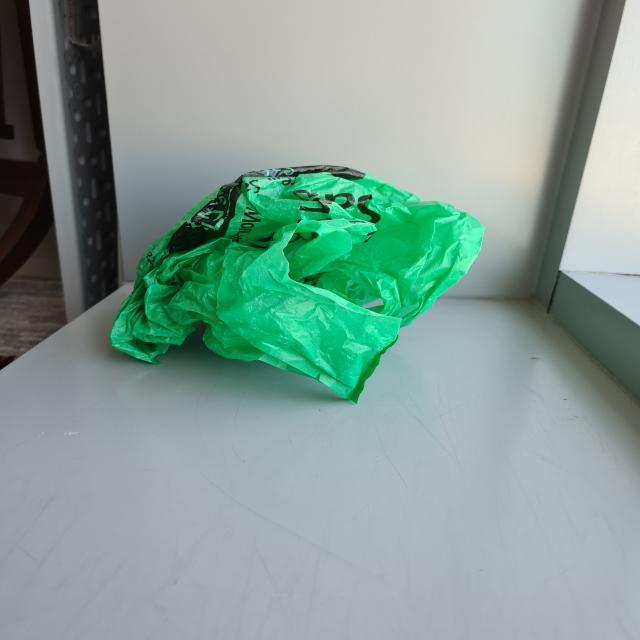plastic: (104, 159, 490, 399)
